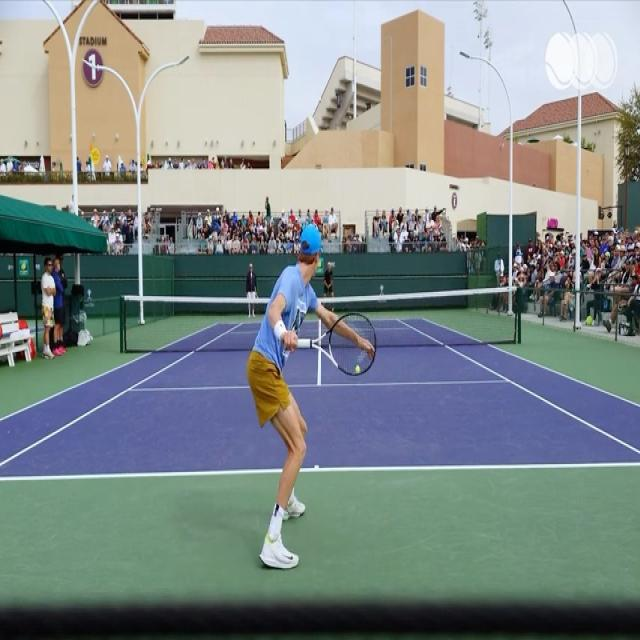forehand-ready: (235, 220, 378, 570)
